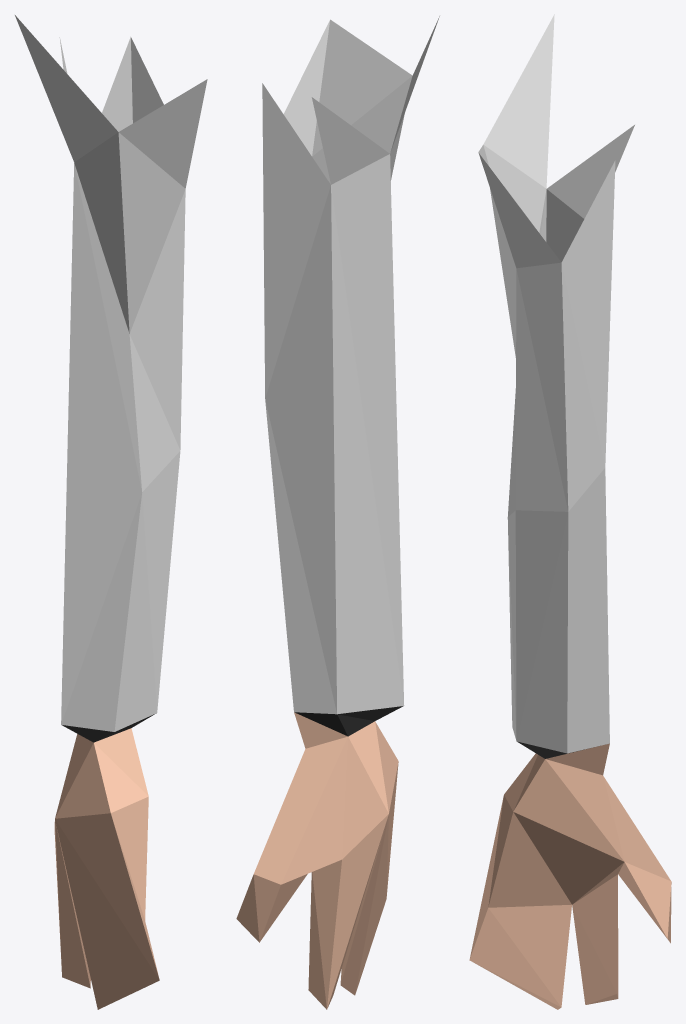
File: ArmL.obj
3 renders of one model, left to right at view 1: azimuth 30°, elevation 25°; view 2: azimuth 150°, elevation 25°; view 3: azimuth 270°, elevation 25°, orthographic. The views are drawn at different scales.
Bounding box in the file's own units: 0.163 × 0.909 × 0.174.
Materials: 1 (1 with a texture image).
